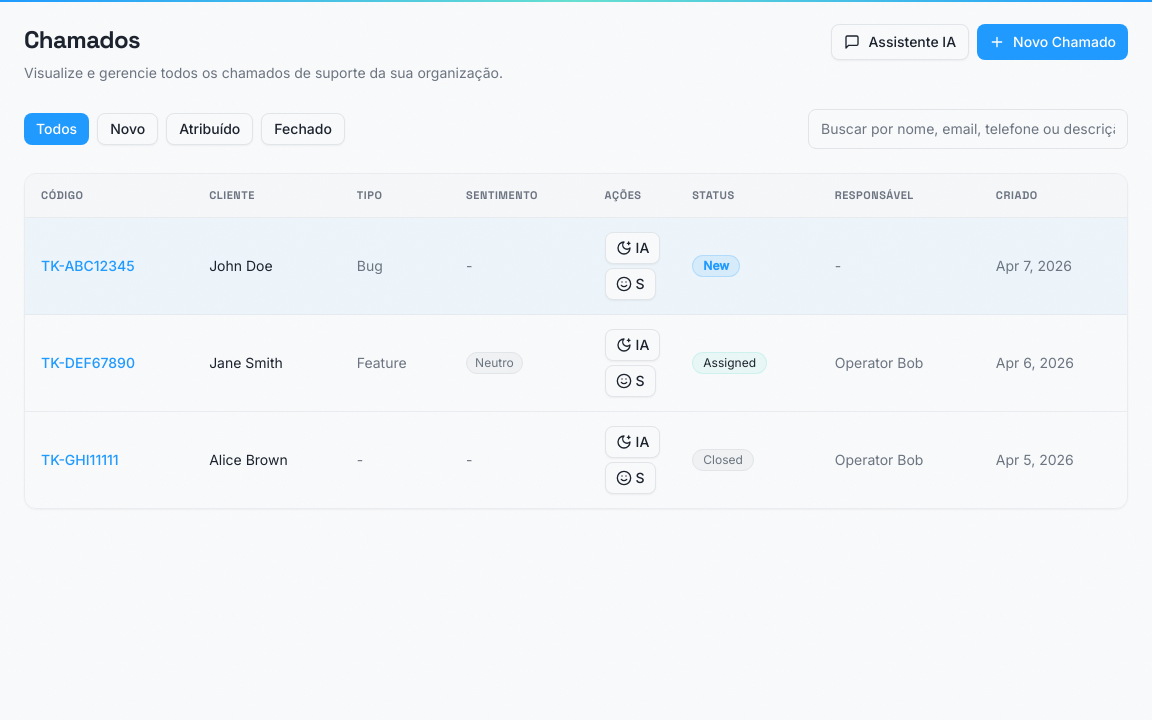
TicketsPage › classifies ticket type and updates the row
The width and height of the screenshot is (1152, 720).
Click the button with aria-label "Classificar tipo do chamado com IA".
click(632, 248)  # box [605,232,660,264]
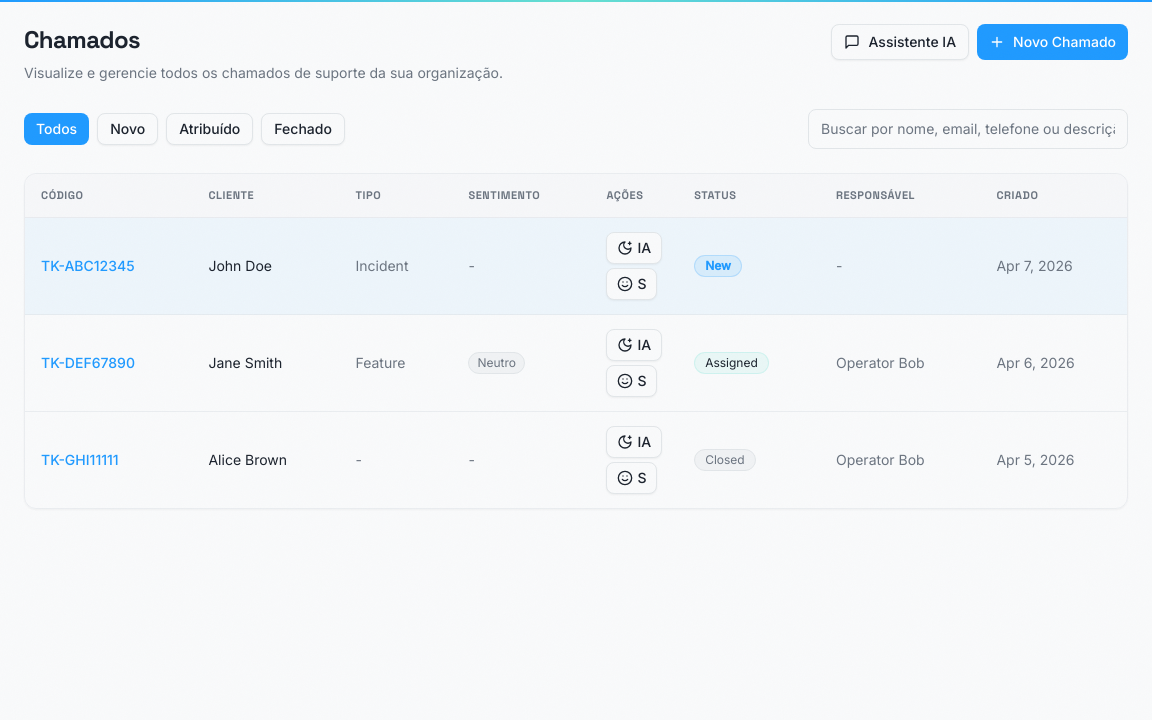
expect the text "Incident" is shown: met, box [340,218,452,315]
